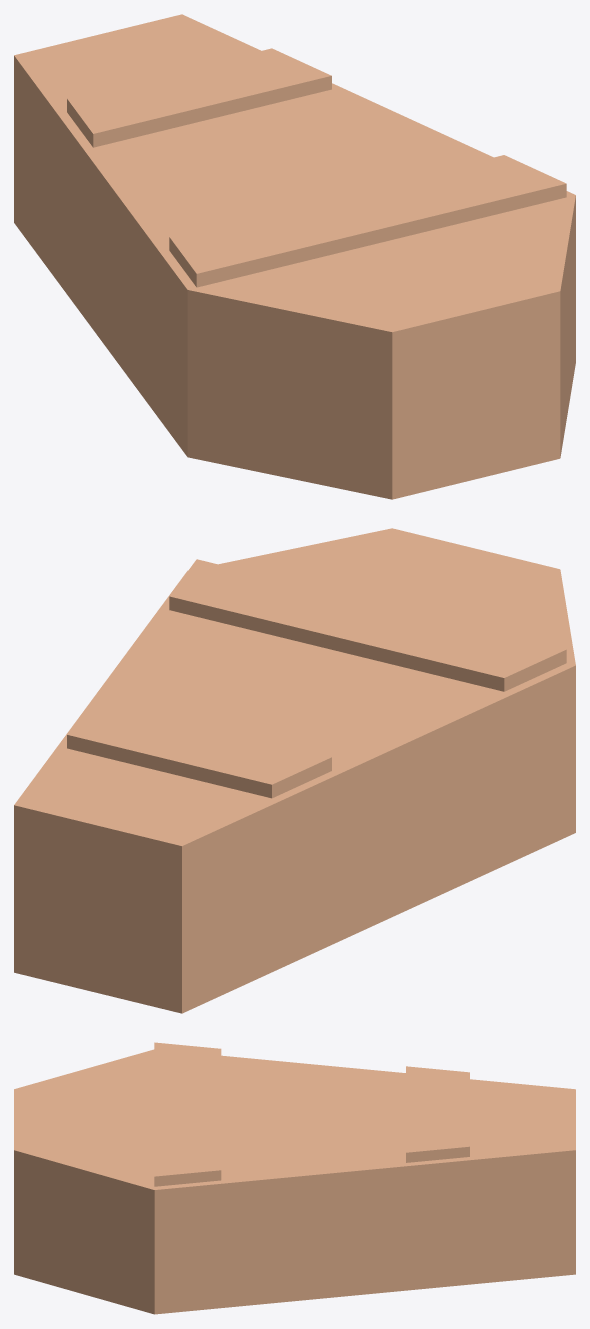
Rendered from coffin.glb.
3 views of the same model, one above another, from view 1: azimuth 30°, elevation 25°; view 2: azimuth 150°, elevation 25°; view 3: azimuth 270°, elevation 25° (orthographic). The views are drawn at different scales.
Parts seen in each view (by area): view 1: lid, coffin; view 2: lid, coffin; view 3: lid, coffin.
Boxes of the visible parts, x1,y1,x2,y2 form: lid: (14, 14, 575, 358); coffin: (14, 82, 575, 499); lid: (14, 528, 575, 872); coffin: (14, 692, 575, 1013); lid: (14, 1042, 575, 1209); coffin: (14, 1170, 575, 1314).
Bounding box in the file's own units: 0.5928 × 0.2642 × 1.
